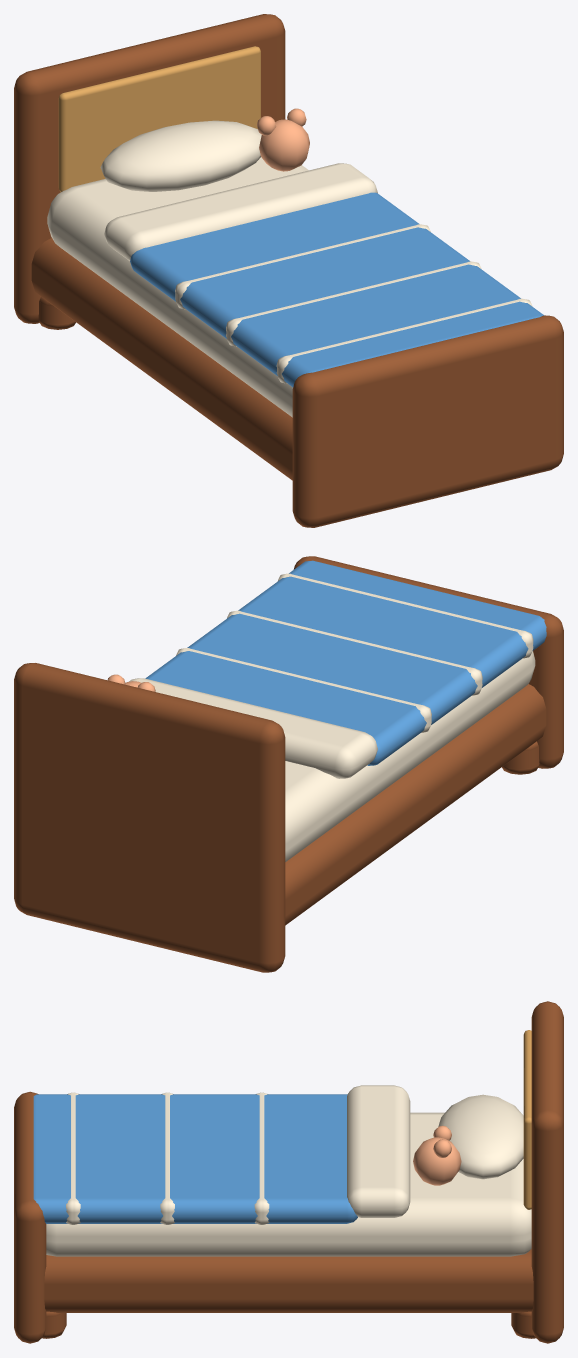
The model's file is bed.glb.
3 views of the same model, one above another, from view 1: azimuth 30°, elevation 25°; view 2: azimuth 150°, elevation 25°; view 3: azimuth 270°, elevation 25° (orthographic). The views are drawn at different scales.
Parts seen in each view (by area): view 1: Footboard, Blanket, Headboard, Frame, HeadPanel, Mattress, BlanketFold, Pillow, Plush, BlanketStripe2, BlanketStripe1, BlanketStripe0 (+1 smaller); view 2: Headboard, Blanket, Frame, Mattress, BlanketFold, Footboard, BlanketStripe0, BlanketStripe1, BlanketStripe2, Leg-0.4-0.9; view 3: Blanket, Frame, Mattress, Headboard, BlanketFold, Footboard, Pillow, HeadPanel, Plush, BlanketStripe2, BlanketStripe0, BlanketStripe1 (+2 smaller).
Part boxes in pixels (box(x1,y1,x2,y2)): Footboard: box(292, 315, 563, 527); Blanket: box(130, 192, 544, 387); Headboard: box(14, 14, 285, 323); Frame: box(31, 238, 292, 480); HeadPanel: box(58, 46, 260, 192); Mattress: box(47, 157, 308, 417); BlanketFold: box(104, 163, 377, 260); Pillow: box(100, 120, 261, 191); Plush: box(259, 119, 309, 171); BlanketStripe2: box(175, 224, 430, 309); BlanketStripe1: box(226, 261, 481, 346); BlanketStripe0: box(276, 298, 532, 383); Headboard: box(14, 663, 285, 972); Blanket: box(145, 560, 546, 765); Frame: box(285, 684, 546, 925); Mattress: box(285, 651, 535, 861); BlanketFold: box(128, 678, 377, 778); Footboard: box(293, 556, 563, 768); BlanketStripe0: box(278, 573, 533, 658); BlanketStripe1: box(227, 610, 482, 695); BlanketStripe2: box(176, 648, 431, 732); Leg-0.4-0.9: box(502, 741, 539, 774); Blanket: box(33, 1094, 357, 1223); Frame: box(44, 1249, 533, 1312); Mattress: box(46, 1112, 531, 1256); Headboard: box(531, 1001, 563, 1343); BlanketFold: box(347, 1085, 410, 1217); Footboard: box(14, 1091, 46, 1343); Pillow: box(438, 1094, 523, 1179); HeadPanel: box(523, 1030, 531, 1209); Plush: box(413, 1137, 461, 1185); BlanketStripe2: box(254, 1092, 269, 1224); BlanketStripe0: box(66, 1092, 80, 1224); BlanketStripe1: box(160, 1092, 174, 1224).
Size of what is drawn, in the model's own units: 1.06 by 0.95 by 2.04.
